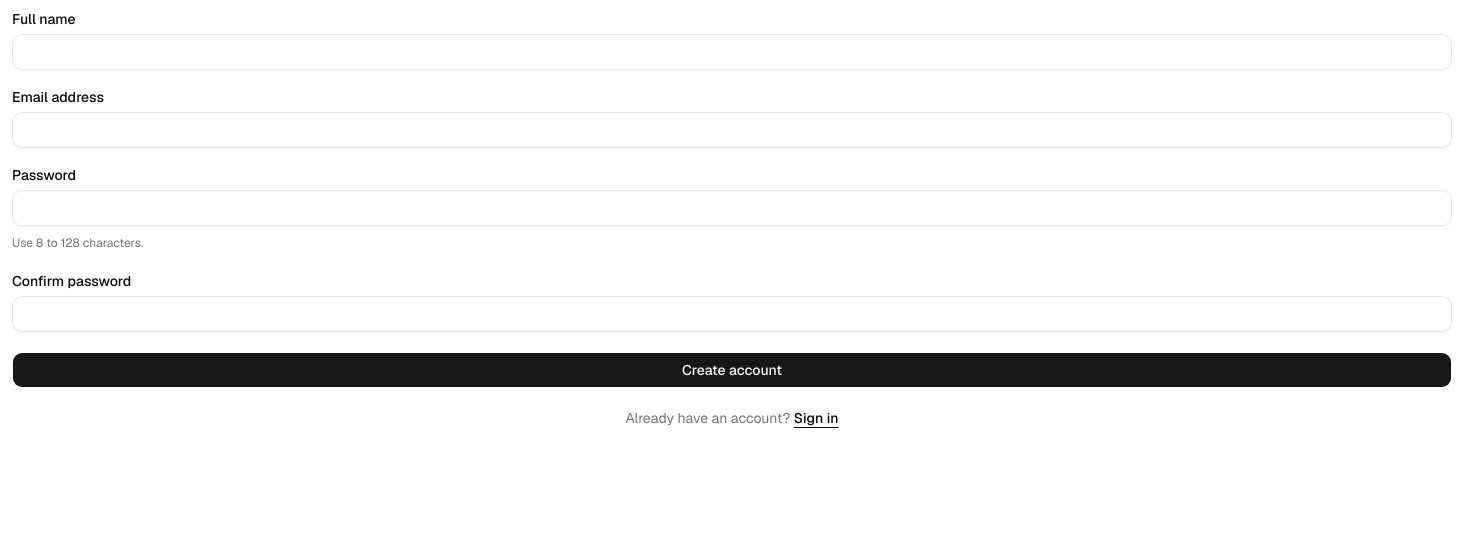
Test case: sign-up UI › renders explicit labels and Zod validation messages
Expected: the text with id "sign-up-password-policy" reads "Use 8 to 128 characters.", [12,235,143,251]
What coordinates should you click on to do the following:
click the button "Create account"
I would click on:
 (732, 370)
Its box is [12,352,1452,388].
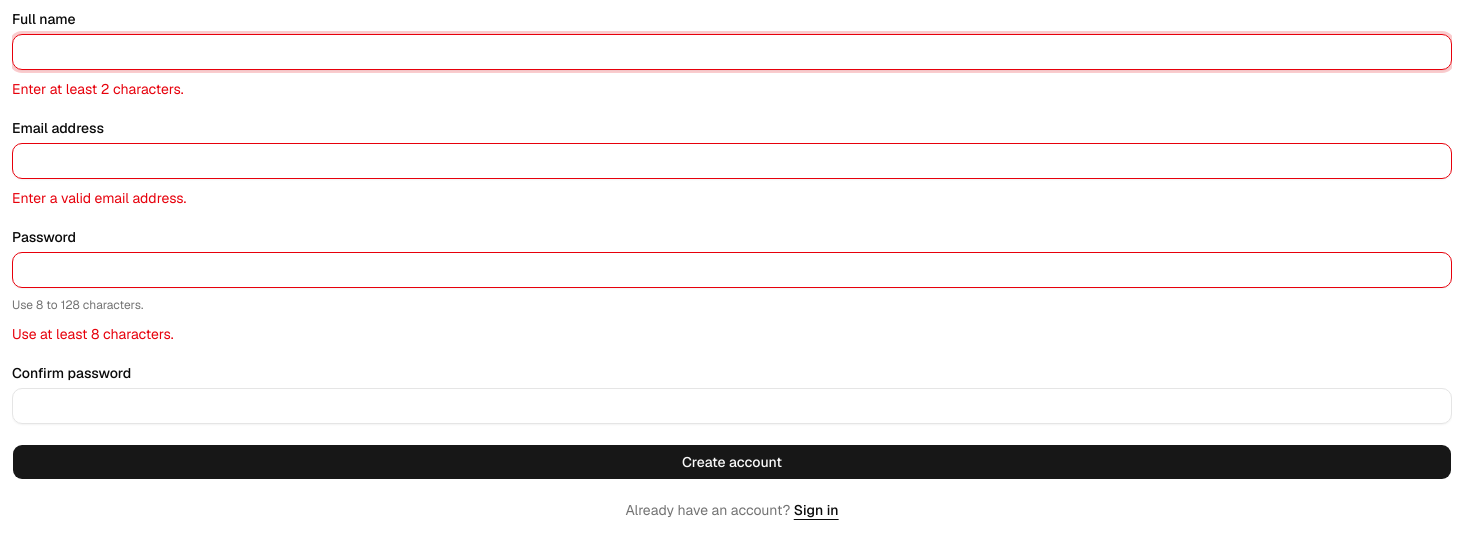
Expected: the text "Enter at least 2 characters." is shown, [12,80,184,98]
Expected: the text "Enter a valid email address." is shown, [12,189,186,207]
Expected: the text "Use at least 8 characters." is shown, [12,325,174,343]
